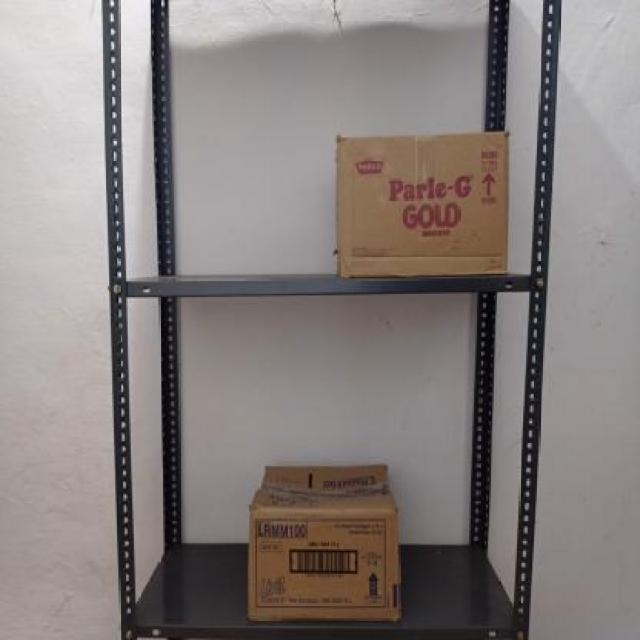box: (336, 133, 509, 275), (249, 505, 403, 619)
